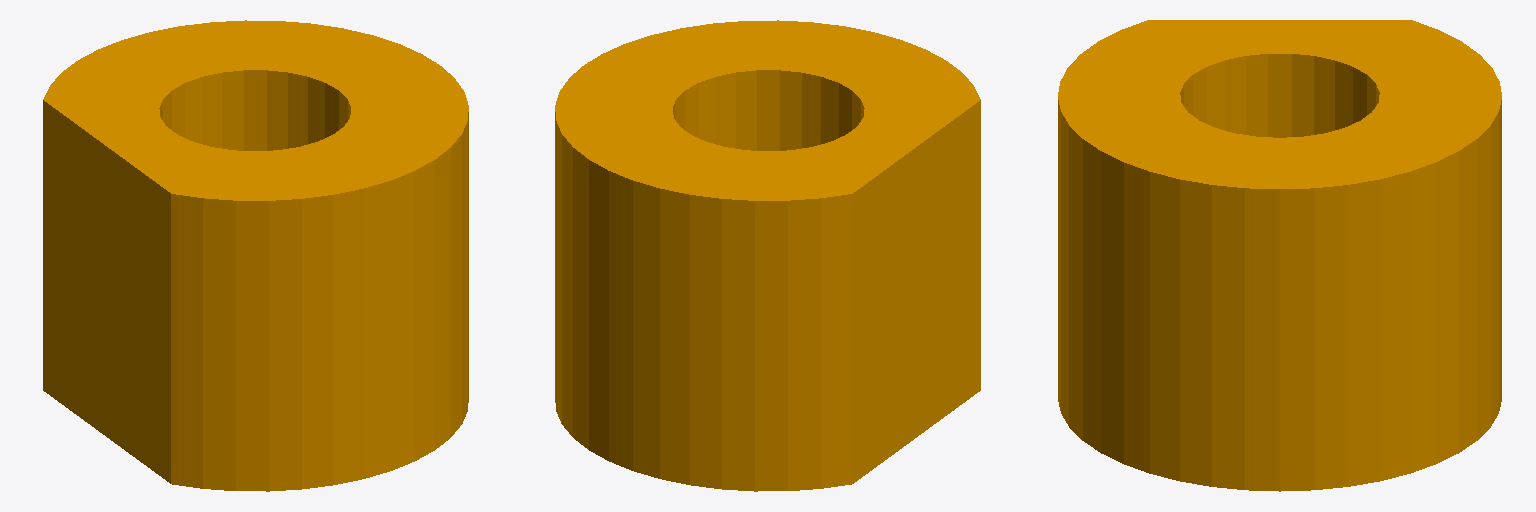
URDF robot description (00293_socket):
<?xml version="1.0"?>
<robot name="00293_socket">
	<link name="00293_socket">
		<visual>
			<geometry>
				<mesh filename="../mesh/00293/asset_socket.obj"/>
			</geometry>
		</visual>
		<collision>
			<geometry>
				<mesh filename="../mesh/00293/asset_socket.obj"/>
			</geometry>
			<sdf resolution="256"/>
		</collision>
	</link>
</robot>

--- Render facts (derived) ---
The picture shows the robot from 3 angles, left to right: view 1: azimuth 30°, elevation 25°; view 2: azimuth 150°, elevation 25°; view 3: azimuth 270°, elevation 25°; orthographic projection.
Model 00293_socket with 1 links and 0 joints (none), rooted at 00293_socket, posed all joints at 0.
Visible links, largest first — view 1: 00293_socket; view 2: 00293_socket; view 3: 00293_socket.
Boxes of the visible links, x1=… form: 00293_socket: x1=43, y1=20, x2=468, y2=491; 00293_socket: x1=555, y1=20, x2=980, y2=491; 00293_socket: x1=1058, y1=20, x2=1501, y2=491.
Size in the robot's own frame: 0.0169 by 0.0188 by 0.0141 metres.
1 mesh visuals loaded from 1 distinct referenced files (1 OBJ).
